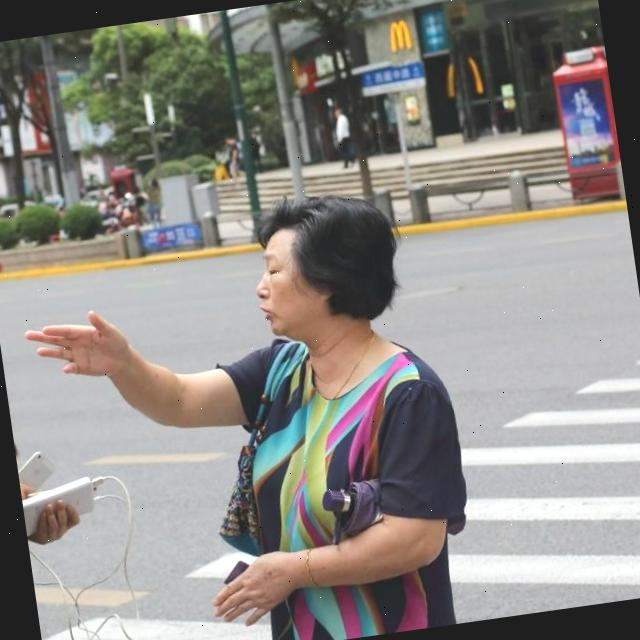curb: (0, 244, 259, 280), (397, 200, 627, 235)
